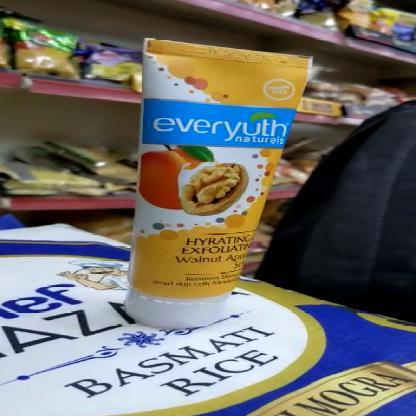EY HYD-EXF WALNT APR SCRUB AYR100G: (137, 43, 309, 327)
